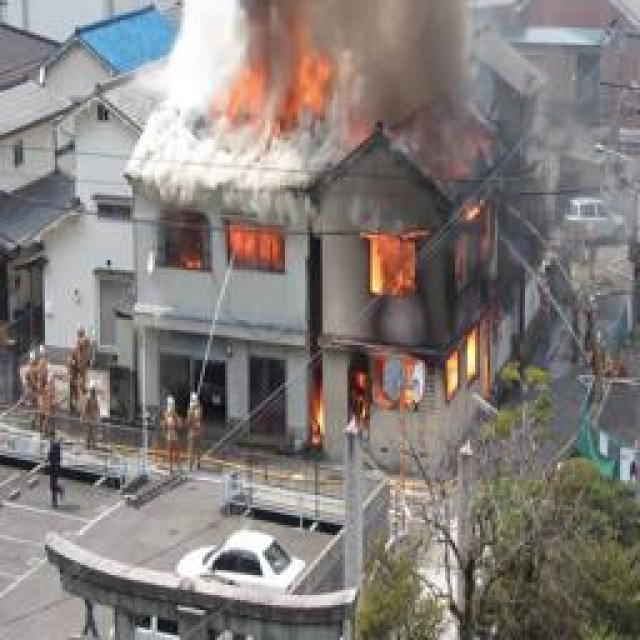Fire: (305, 130, 519, 450), (221, 30, 330, 127), (183, 219, 286, 272)
